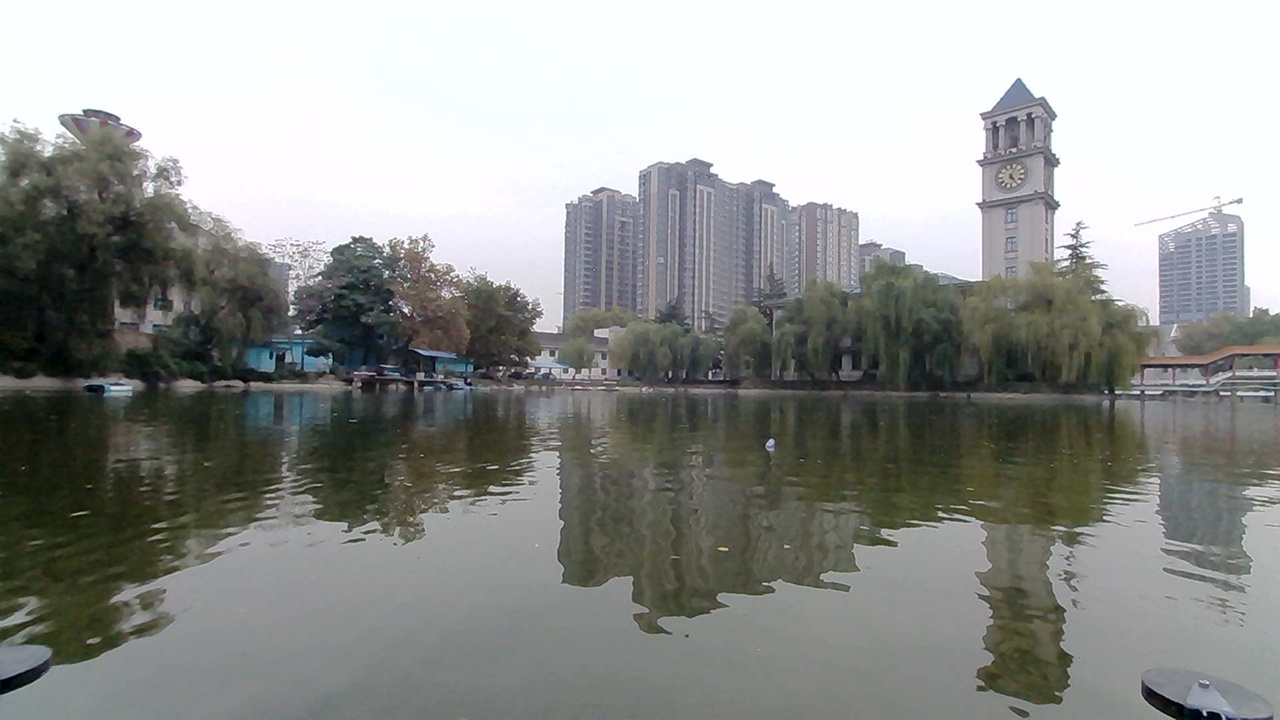bottle: (747, 425, 799, 457)
